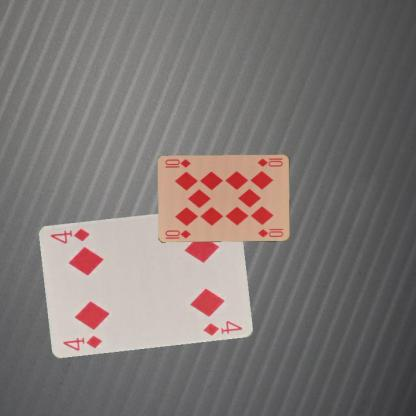10d: (255, 156, 284, 168), (163, 227, 192, 239)
4d: (60, 332, 104, 352)
